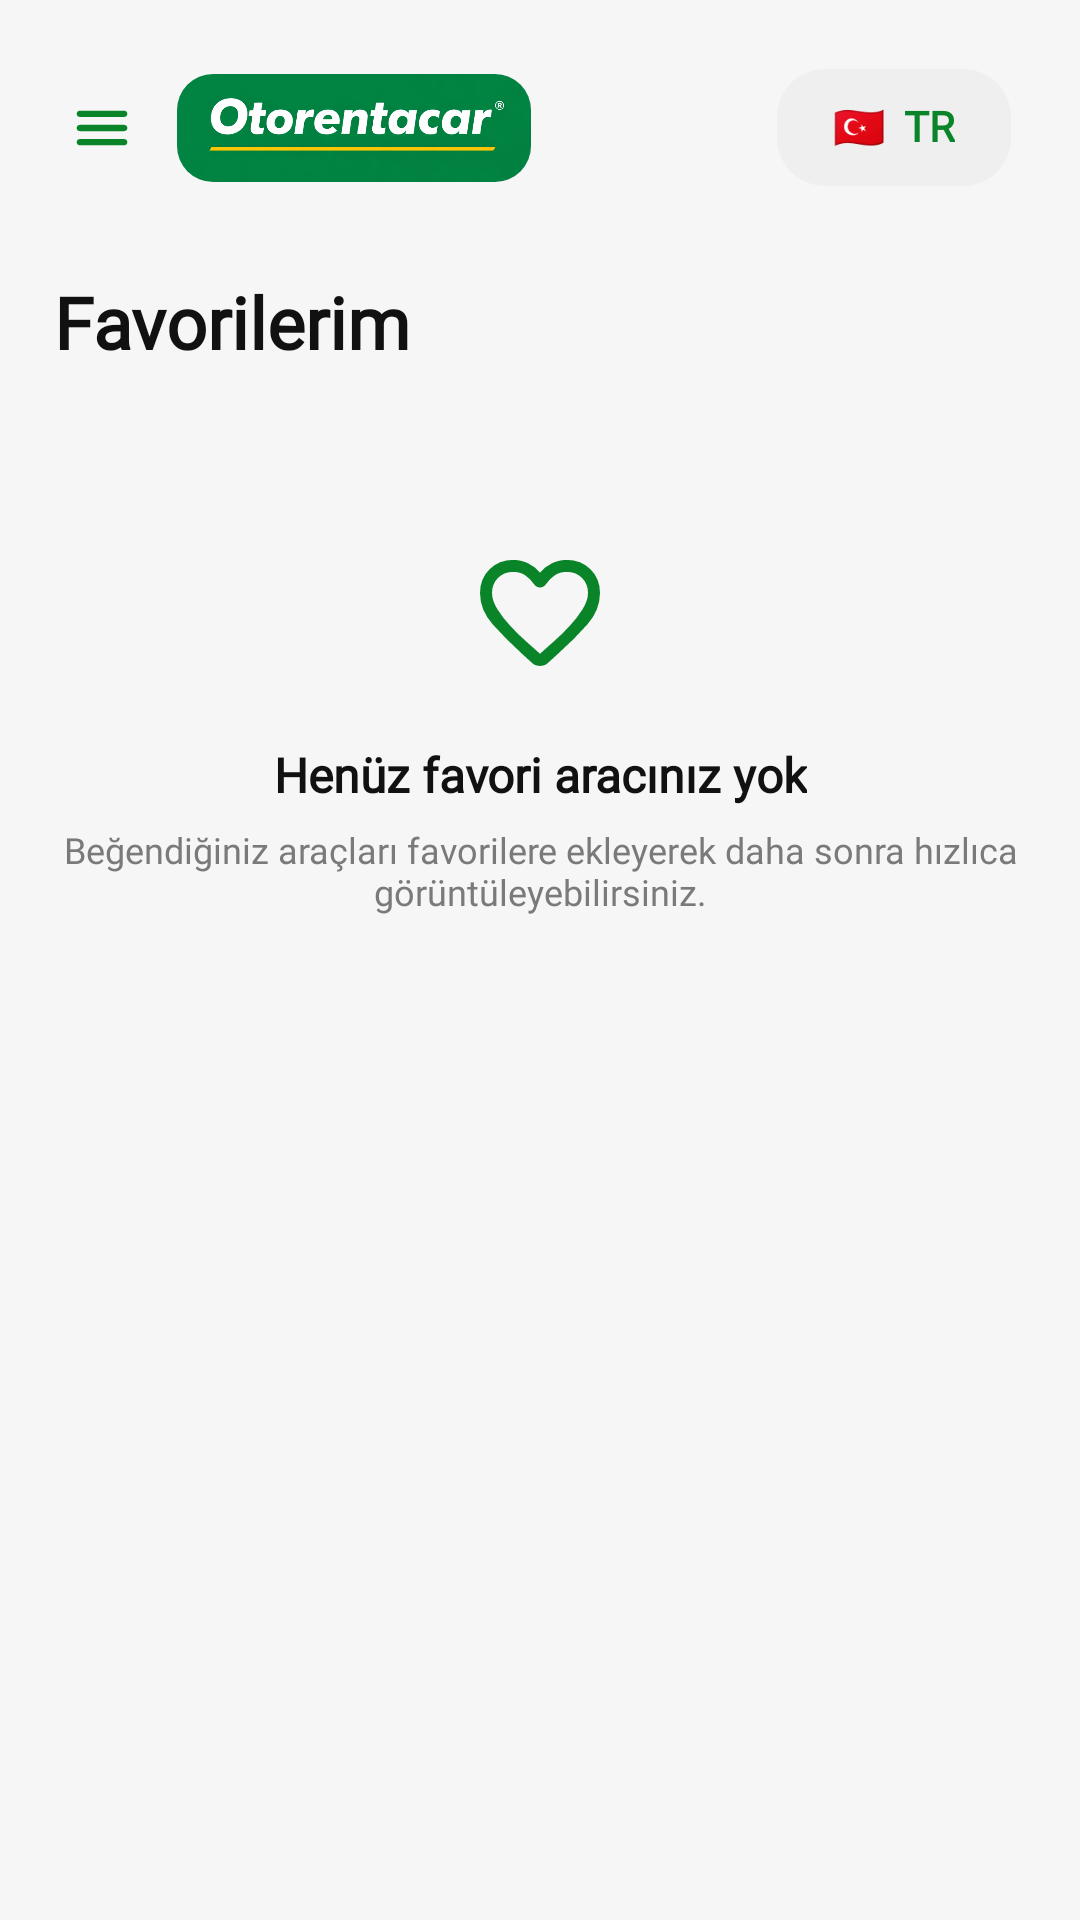

Icons on this 1080*1920 Android screen, each with its box as (left=x1, top=y1, right=x2, bottom=y2):
favorite: (left=480, top=560, right=600, bottom=666)
menu: (left=76, top=110, right=128, bottom=146)
